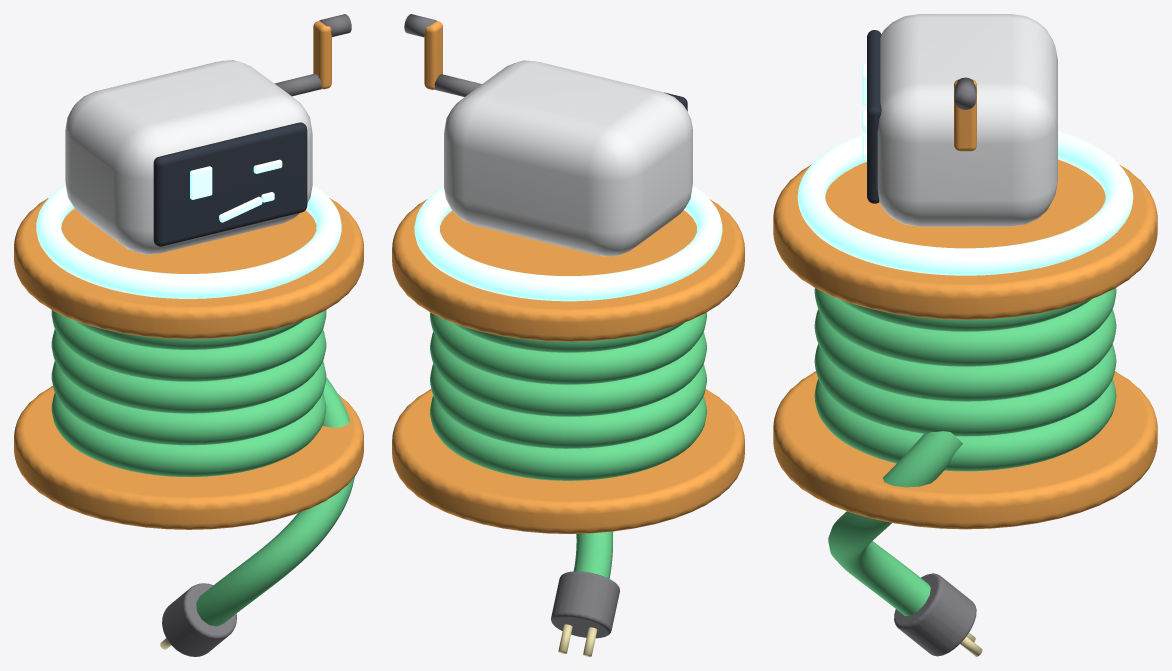
The model's file is cord_rolle.glb.
3 renders of one model, left to right at view 1: azimuth 30°, elevation 25°; view 2: azimuth 150°, elevation 25°; view 3: azimuth 270°, elevation 25°, orthographic. The views are drawn at different scales.
Visible parts, largest first — view 1: Cylinder.005, Cube.006, Cylinder.003, Cube.007, Torus.007, Torus.004, Torus.003, Torus.002, Torus.005, Cable.005, Plug.005, Torus.006 (+3 smaller); view 2: Cube.006, Cylinder.005, Cylinder.003, Torus.007, Torus.003, Torus.004, Torus.002, Torus.005, Plug.005, Torus.006, Cable.005, Cube.012 (+1 smaller); view 3: Cube.006, Cylinder.005, Cylinder.003, Torus.007, Torus.004, Torus.003, Torus.005, Torus.002, Cable.005, Plug.005, Torus.006, Cube.007 (+2 smaller).
Part boxes in pixels (x1=…): Cylinder.005: x1=14, y1=198, x2=363, y2=339; Cube.006: x1=65, y1=60, x2=312, y2=254; Cylinder.003: x1=14, y1=386, x2=363, y2=529; Cube.007: x1=153, y1=122, x2=307, y2=246; Torus.007: x1=36, y1=184, x2=341, y2=298; Torus.004: x1=51, y1=329, x2=326, y2=413; Torus.003: x1=51, y1=361, x2=326, y2=445; Torus.002: x1=51, y1=393, x2=326, y2=476; Torus.005: x1=51, y1=310, x2=326, y2=381; Cable.005: x1=196, y1=377, x2=354, y2=626; Plug.005: x1=162, y1=583, x2=236, y2=656; Torus.006: x1=74, y1=320, x2=303, y2=349; Cube.006: x1=444, y1=60, x2=692, y2=256; Cylinder.005: x1=392, y1=199, x2=744, y2=341; Cylinder.003: x1=392, y1=389, x2=744, y2=533; Torus.007: x1=414, y1=185, x2=722, y2=301; Torus.003: x1=430, y1=364, x2=706, y2=448; Torus.004: x1=430, y1=332, x2=706, y2=416; Torus.002: x1=430, y1=396, x2=706, y2=480; Torus.005: x1=430, y1=312, x2=706, y2=384; Plug.005: x1=551, y1=571, x2=619, y2=638; Torus.006: x1=452, y1=322, x2=684, y2=352; Cable.005: x1=573, y1=531, x2=612, y2=578; Cube.012: x1=424, y1=21, x2=442, y2=89; Cube.006: x1=877, y1=14, x2=1057, y2=226; Cylinder.005: x1=773, y1=159, x2=1157, y2=319; Cylinder.003: x1=773, y1=371, x2=1157, y2=529; Torus.007: x1=797, y1=131, x2=1133, y2=275; Torus.004: x1=814, y1=309, x2=1116, y2=401; Torus.003: x1=814, y1=344, x2=1116, y2=436; Torus.005: x1=814, y1=288, x2=1116, y2=366; Torus.002: x1=814, y1=379, x2=1116, y2=471; Cable.005: x1=828, y1=431, x2=962, y2=615; Plug.005: x1=894, y1=573, x2=976, y2=656; Torus.006: x1=839, y1=299, x2=1091, y2=331; Cube.007: x1=867, y1=30, x2=881, y2=203.
Bounding box in the file's own units: 0.5094 × 0.9318 × 0.4988.
